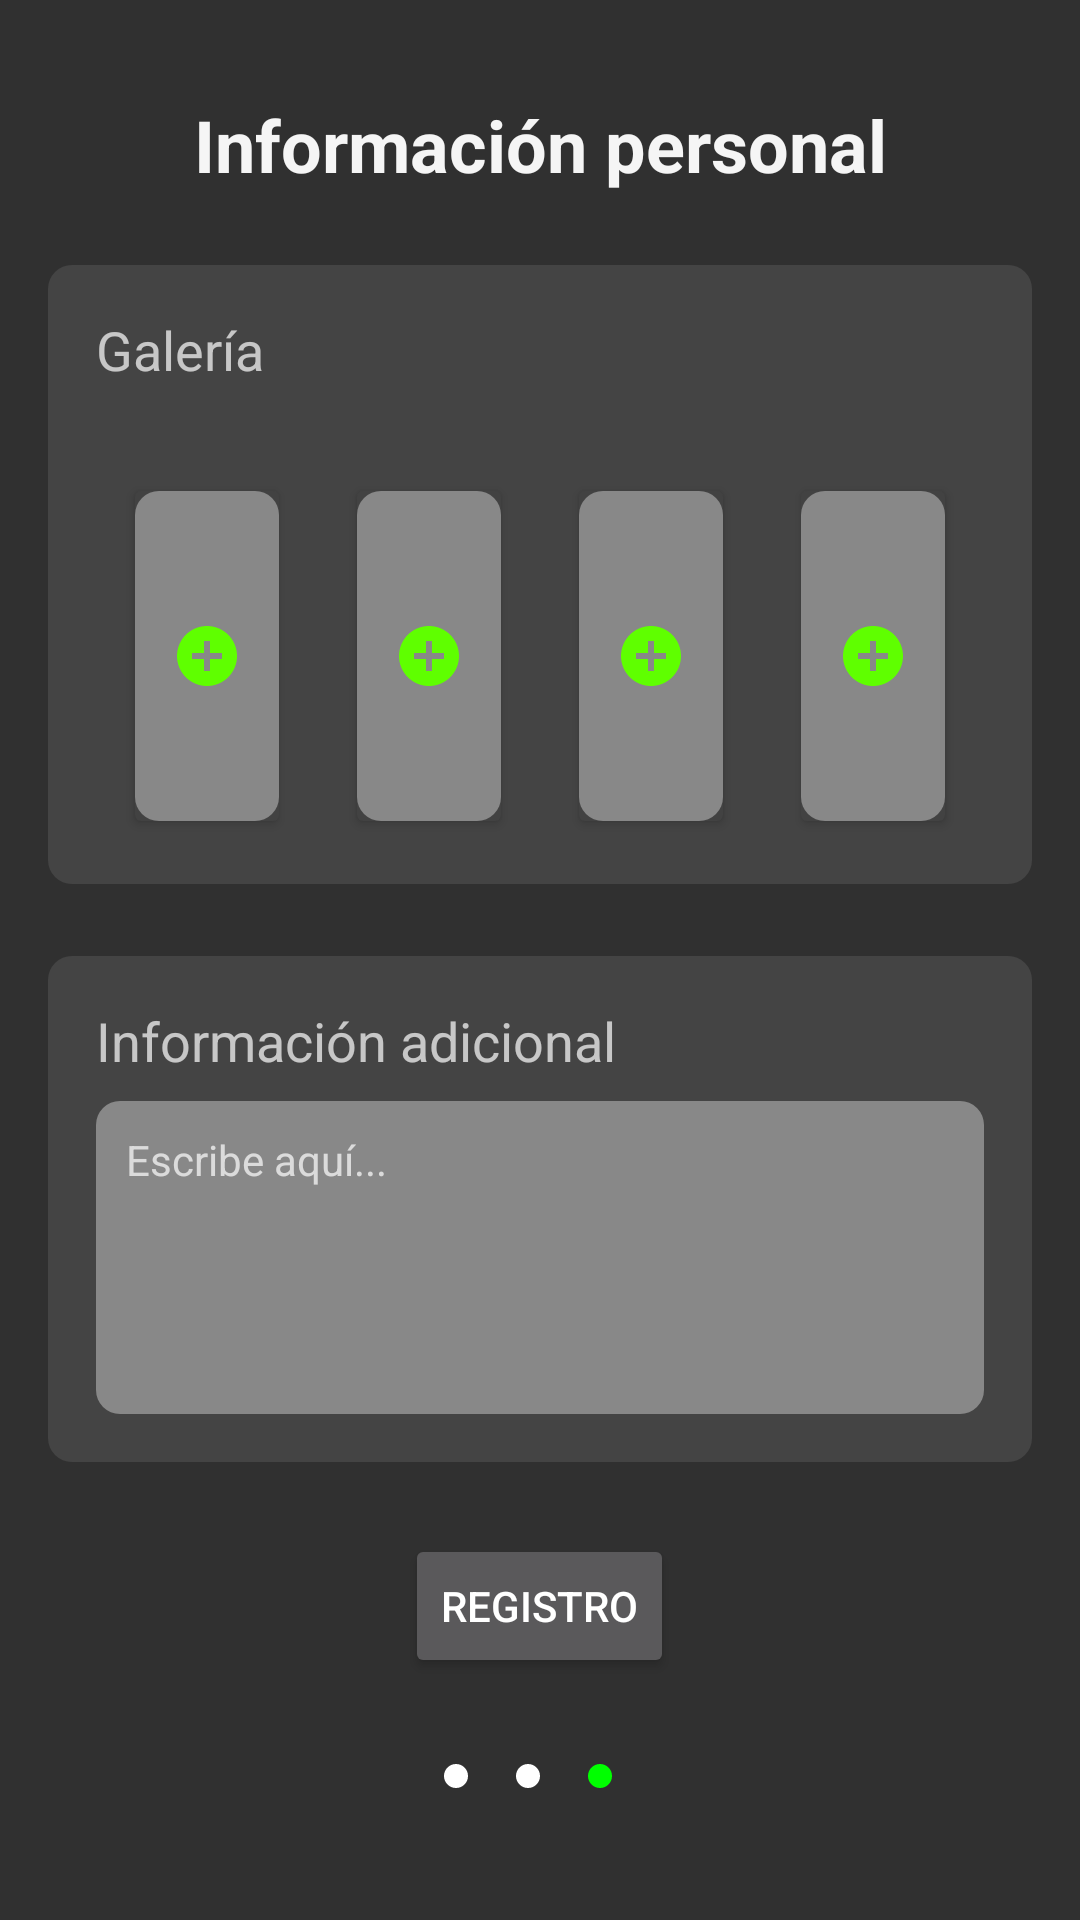

Named icons in this screenshot (1080 x 1920) and their centers, (x=x, y=y):
add: (x=207, y=656), (x=429, y=656), (x=651, y=656), (x=873, y=656)
